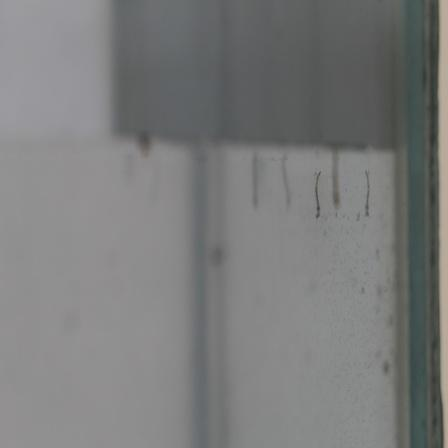Jentik-Nyamuk: (311, 167, 325, 221)
